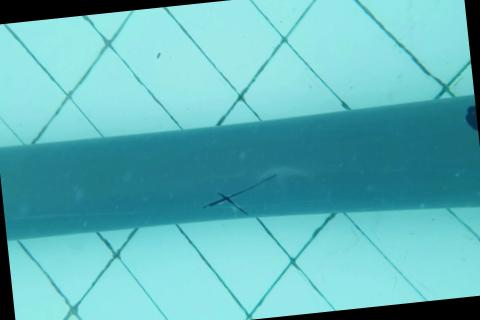kebocoran: (462, 103, 478, 134)
keretakan: (198, 173, 278, 219)
